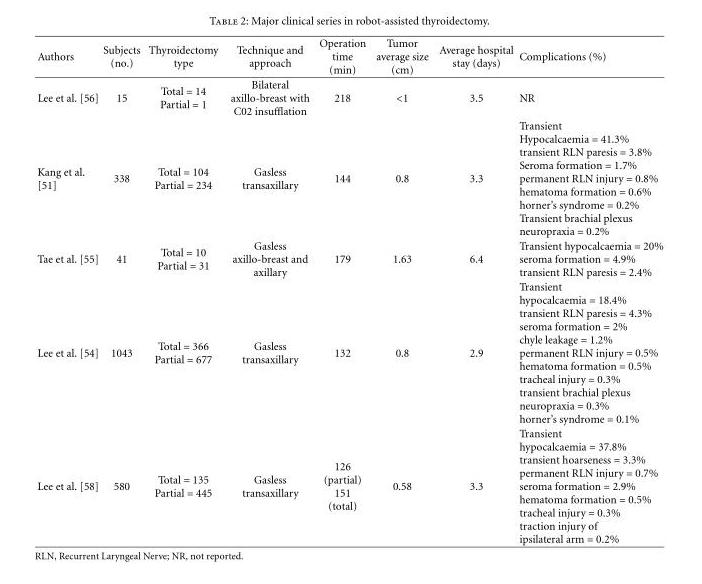table: (36, 36, 662, 544)
table column: (515, 36, 662, 544), (223, 36, 313, 544), (433, 36, 515, 544), (143, 36, 223, 544), (36, 36, 100, 544), (370, 36, 433, 544), (313, 36, 370, 544), (100, 36, 143, 544)
table column header: (36, 36, 662, 76)
table row: (36, 279, 662, 425), (36, 118, 662, 237), (36, 425, 662, 544), (36, 76, 662, 118), (36, 237, 662, 279), (36, 36, 662, 76)
